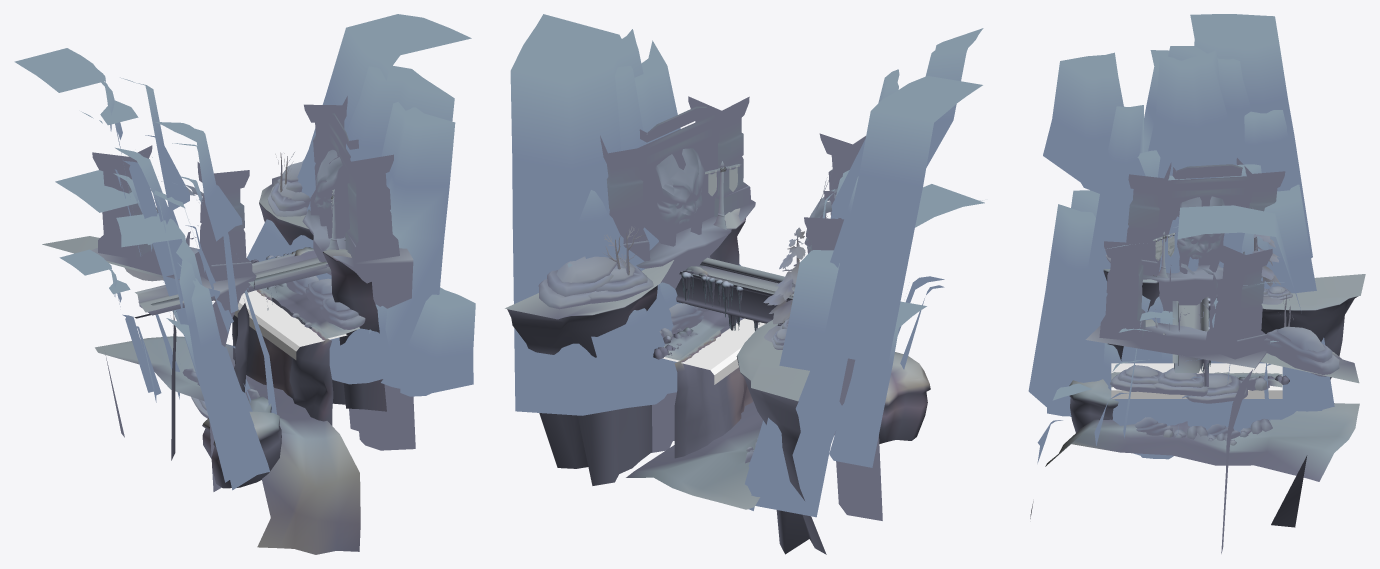
Rendered from Arctic_Narrows_Left_Slide_A.glb.
3 views of the same model, side by side, from view 1: azimuth 30°, elevation 25°; view 2: azimuth 150°, elevation 25°; view 3: azimuth 270°, elevation 25° (orthographic). The views are drawn at different scales.
Parts seen in each view (by area): view 1: Arctic_Narrows_Left_Slide_A, inv_fill; view 2: Arctic_Narrows_Left_Slide_A, inv_fill; view 3: Arctic_Narrows_Left_Slide_A, inv_fill.
Boxes of the visible parts, x1=… form: Arctic_Narrows_Left_Slide_A: x1=14, y1=14, x2=475, y2=554; inv_fill: x1=214, y1=290, x2=347, y2=359; Arctic_Narrows_Left_Slide_A: x1=505, y1=14, x2=984, y2=554; inv_fill: x1=662, y1=318, x2=765, y2=384; Arctic_Narrows_Left_Slide_A: x1=1028, y1=14, x2=1365, y2=553; inv_fill: x1=1111, y1=363, x2=1282, y2=398.
Size of what is drawn, in the model's own units: 27.61 by 28.89 by 21.54.
